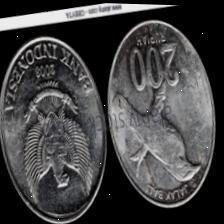coin_200_e2003: (107, 18, 216, 209), (0, 35, 108, 224)
